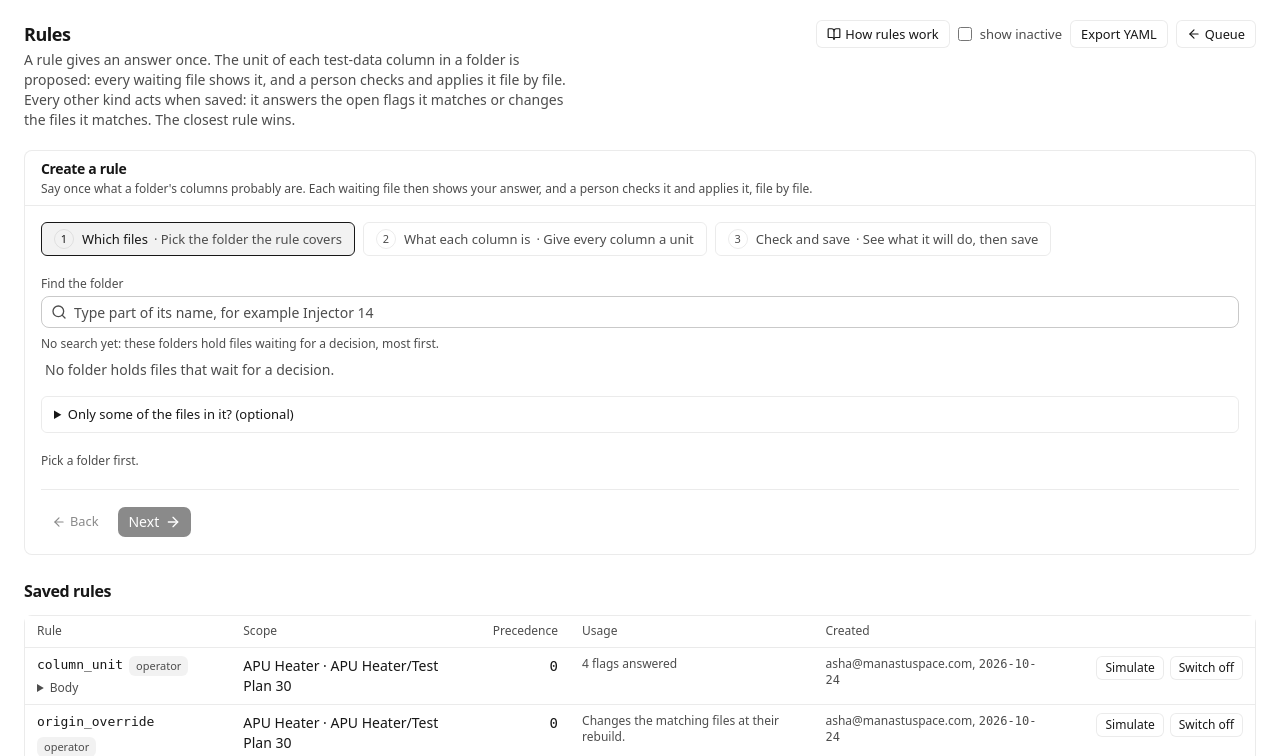
Rules page › says after switching off that the flags are open again and the files rebuilt
The width and height of the screenshot is (1280, 756).
Expected: the text "column_unit" is shown, [37,656,123,675]
Click the button "Switch off" in the row of "column_unit".
click(1206, 668)  # box [1170,656,1243,680]
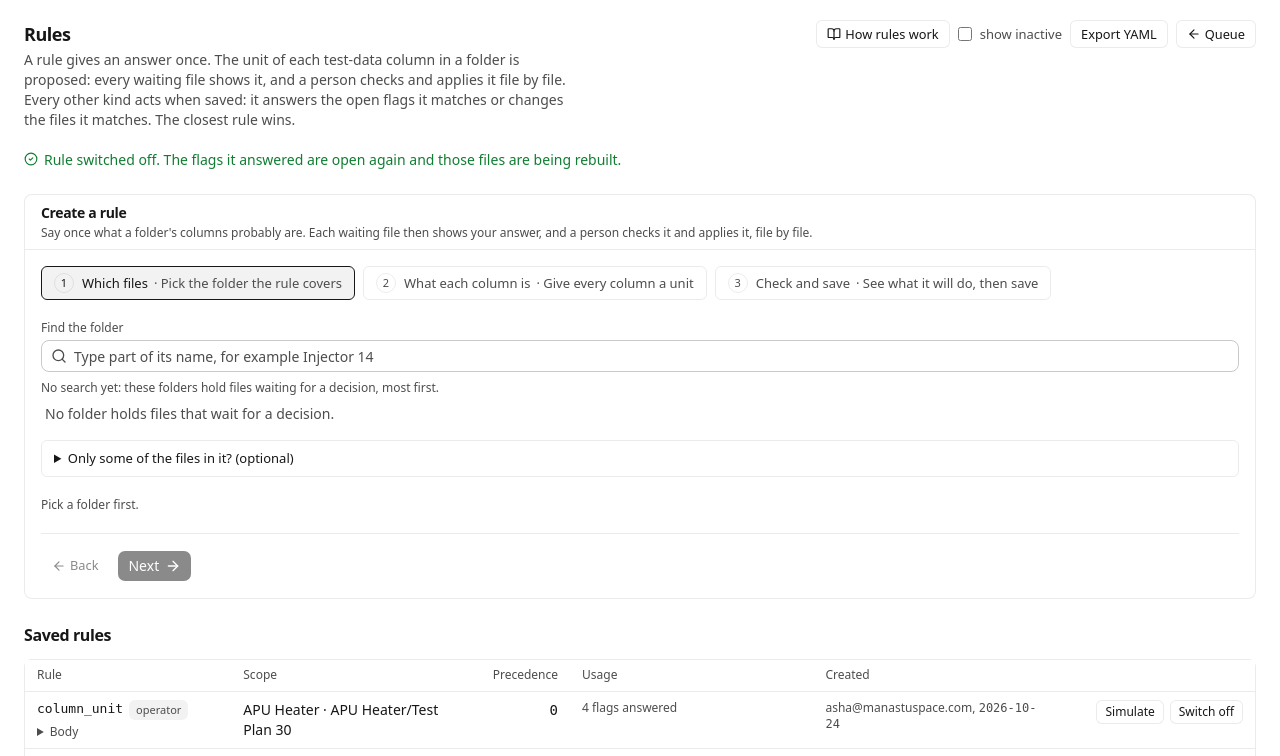
Result: the text "Rule switched off. The flags it answered are open again and those files are being rebuilt." is shown at [44,150,621,169]
